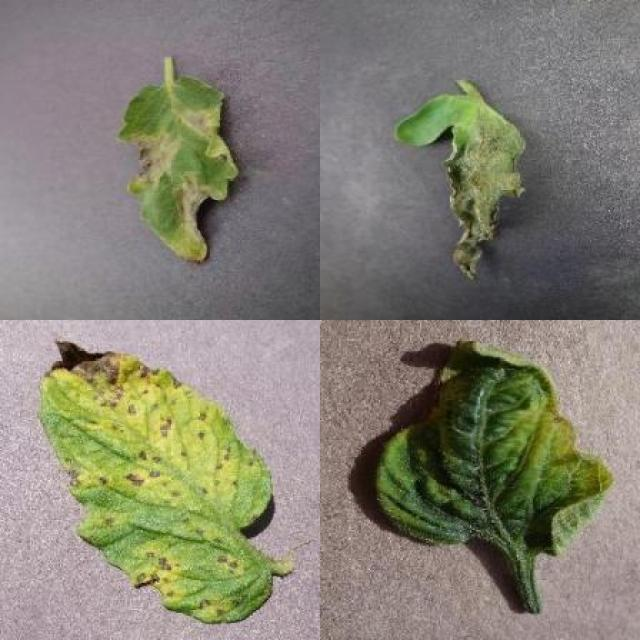Late Blight: (394, 94, 529, 282), (118, 76, 242, 267)
Septoria: (42, 340, 275, 623)
Yellow Leaf Curl Virus: (376, 340, 614, 557)
